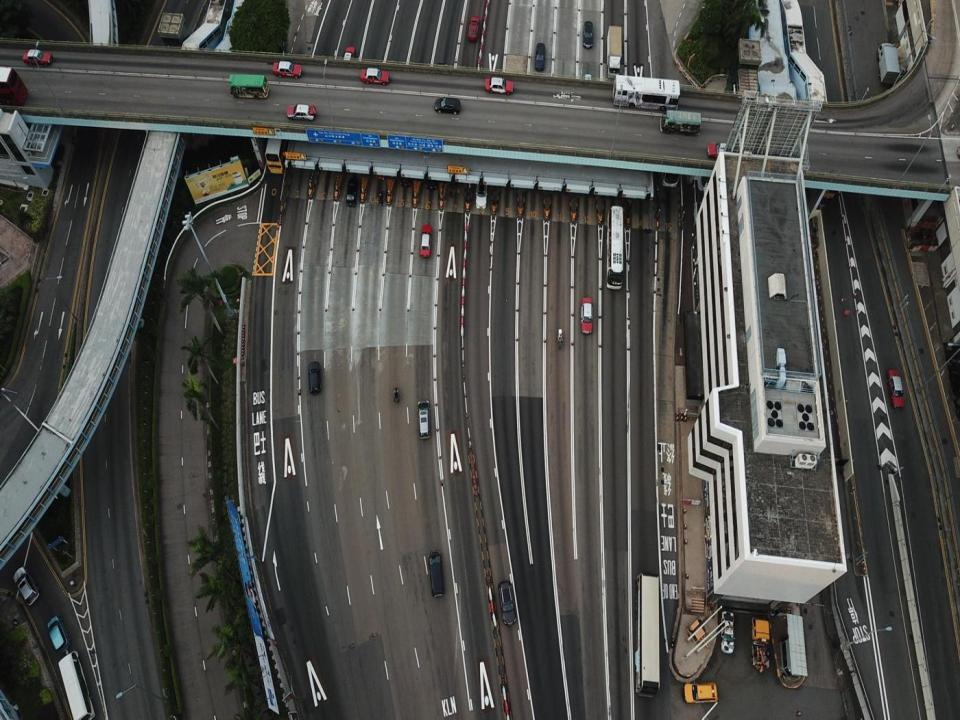bus: (634, 572, 660, 698), (58, 650, 95, 719), (612, 75, 680, 110), (606, 204, 623, 290), (266, 109, 288, 174), (0, 67, 27, 107), (660, 110, 702, 135), (229, 75, 269, 100), (662, 139, 680, 187)
car: (886, 369, 904, 409), (721, 610, 735, 654), (484, 77, 513, 96), (22, 48, 52, 66), (360, 68, 390, 86), (286, 104, 316, 121), (435, 96, 461, 115), (273, 61, 302, 78), (475, 173, 488, 209), (420, 224, 433, 257), (707, 143, 733, 159), (581, 297, 592, 334), (426, 157, 437, 188), (342, 47, 355, 72), (375, 153, 387, 179), (346, 178, 357, 206), (583, 21, 594, 48), (400, 161, 412, 185), (535, 43, 545, 71), (468, 16, 479, 40)
truck: (876, 39, 900, 85), (752, 615, 770, 671), (607, 24, 622, 80), (822, 156, 837, 198)
van: (13, 566, 39, 606), (46, 615, 70, 653), (427, 549, 444, 598), (498, 580, 516, 626), (683, 681, 718, 702), (417, 399, 430, 439), (308, 361, 321, 394), (584, 73, 592, 94)
